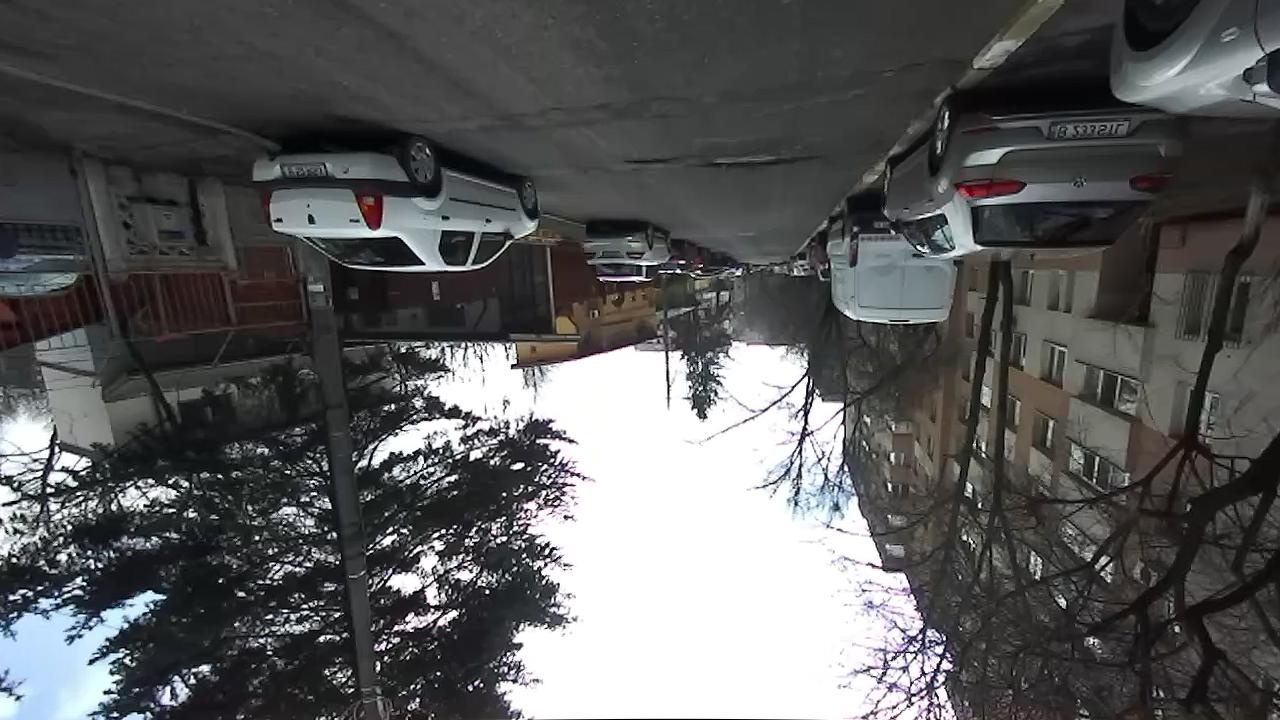pothole: (699, 148, 829, 170), (620, 154, 683, 167)
